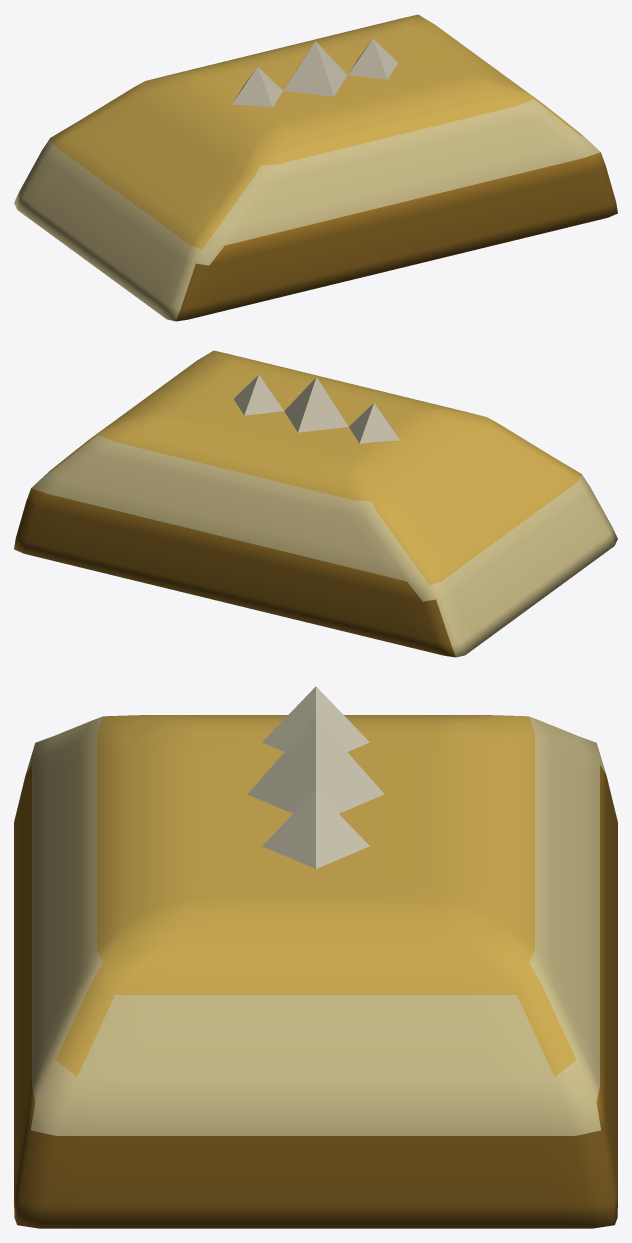
The model's file is Bar_Infinity.glb.
3 views of the same model, one above another, from view 1: azimuth 30°, elevation 25°; view 2: azimuth 150°, elevation 25°; view 3: azimuth 270°, elevation 25° (orthographic). The views are drawn at different scales.
Visible parts, largest first — view 1: Bar_infinity; view 2: Bar_infinity; view 3: Bar_infinity.
Boxes of the visible parts, x1,y1,x2,y2 form: Bar_infinity: (14,14,617,321); Bar_infinity: (14,350,617,657); Bar_infinity: (14,686,617,1228).
Size of the model in its own units: 0.93 by 0.34 by 0.5902.
